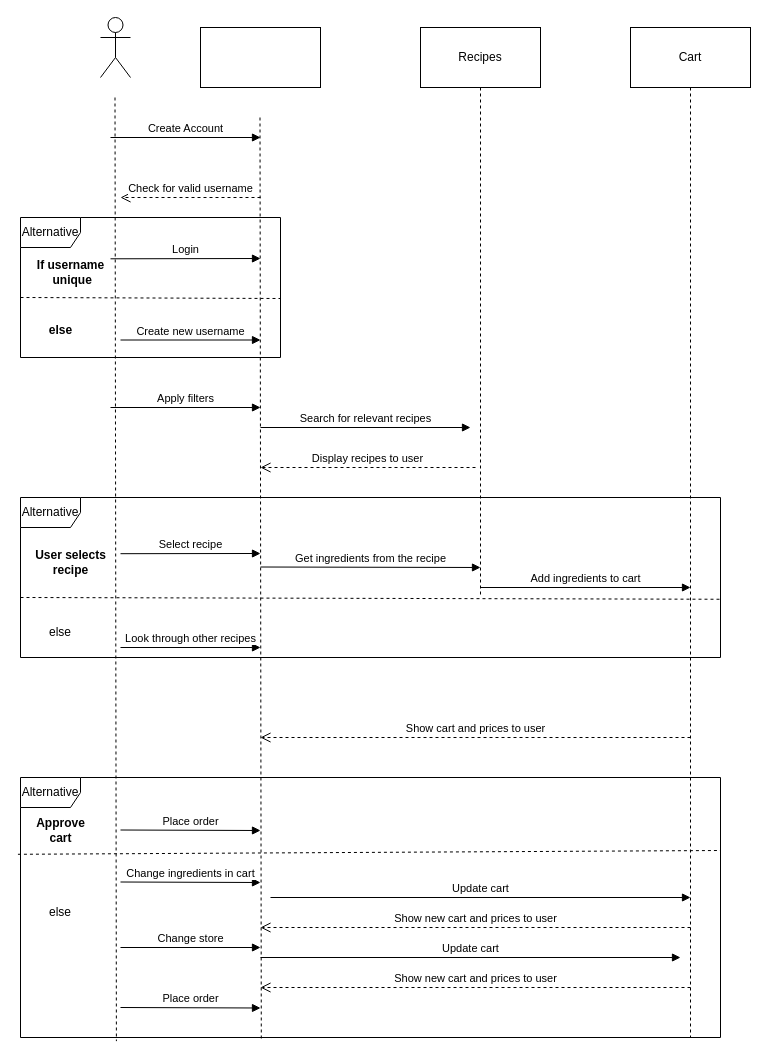
This 768x1060 diagram has some shape labels left out. Each missing label, with the centre of its shape:
"System" goes at (260,57).
"User" goes at (115,47).
